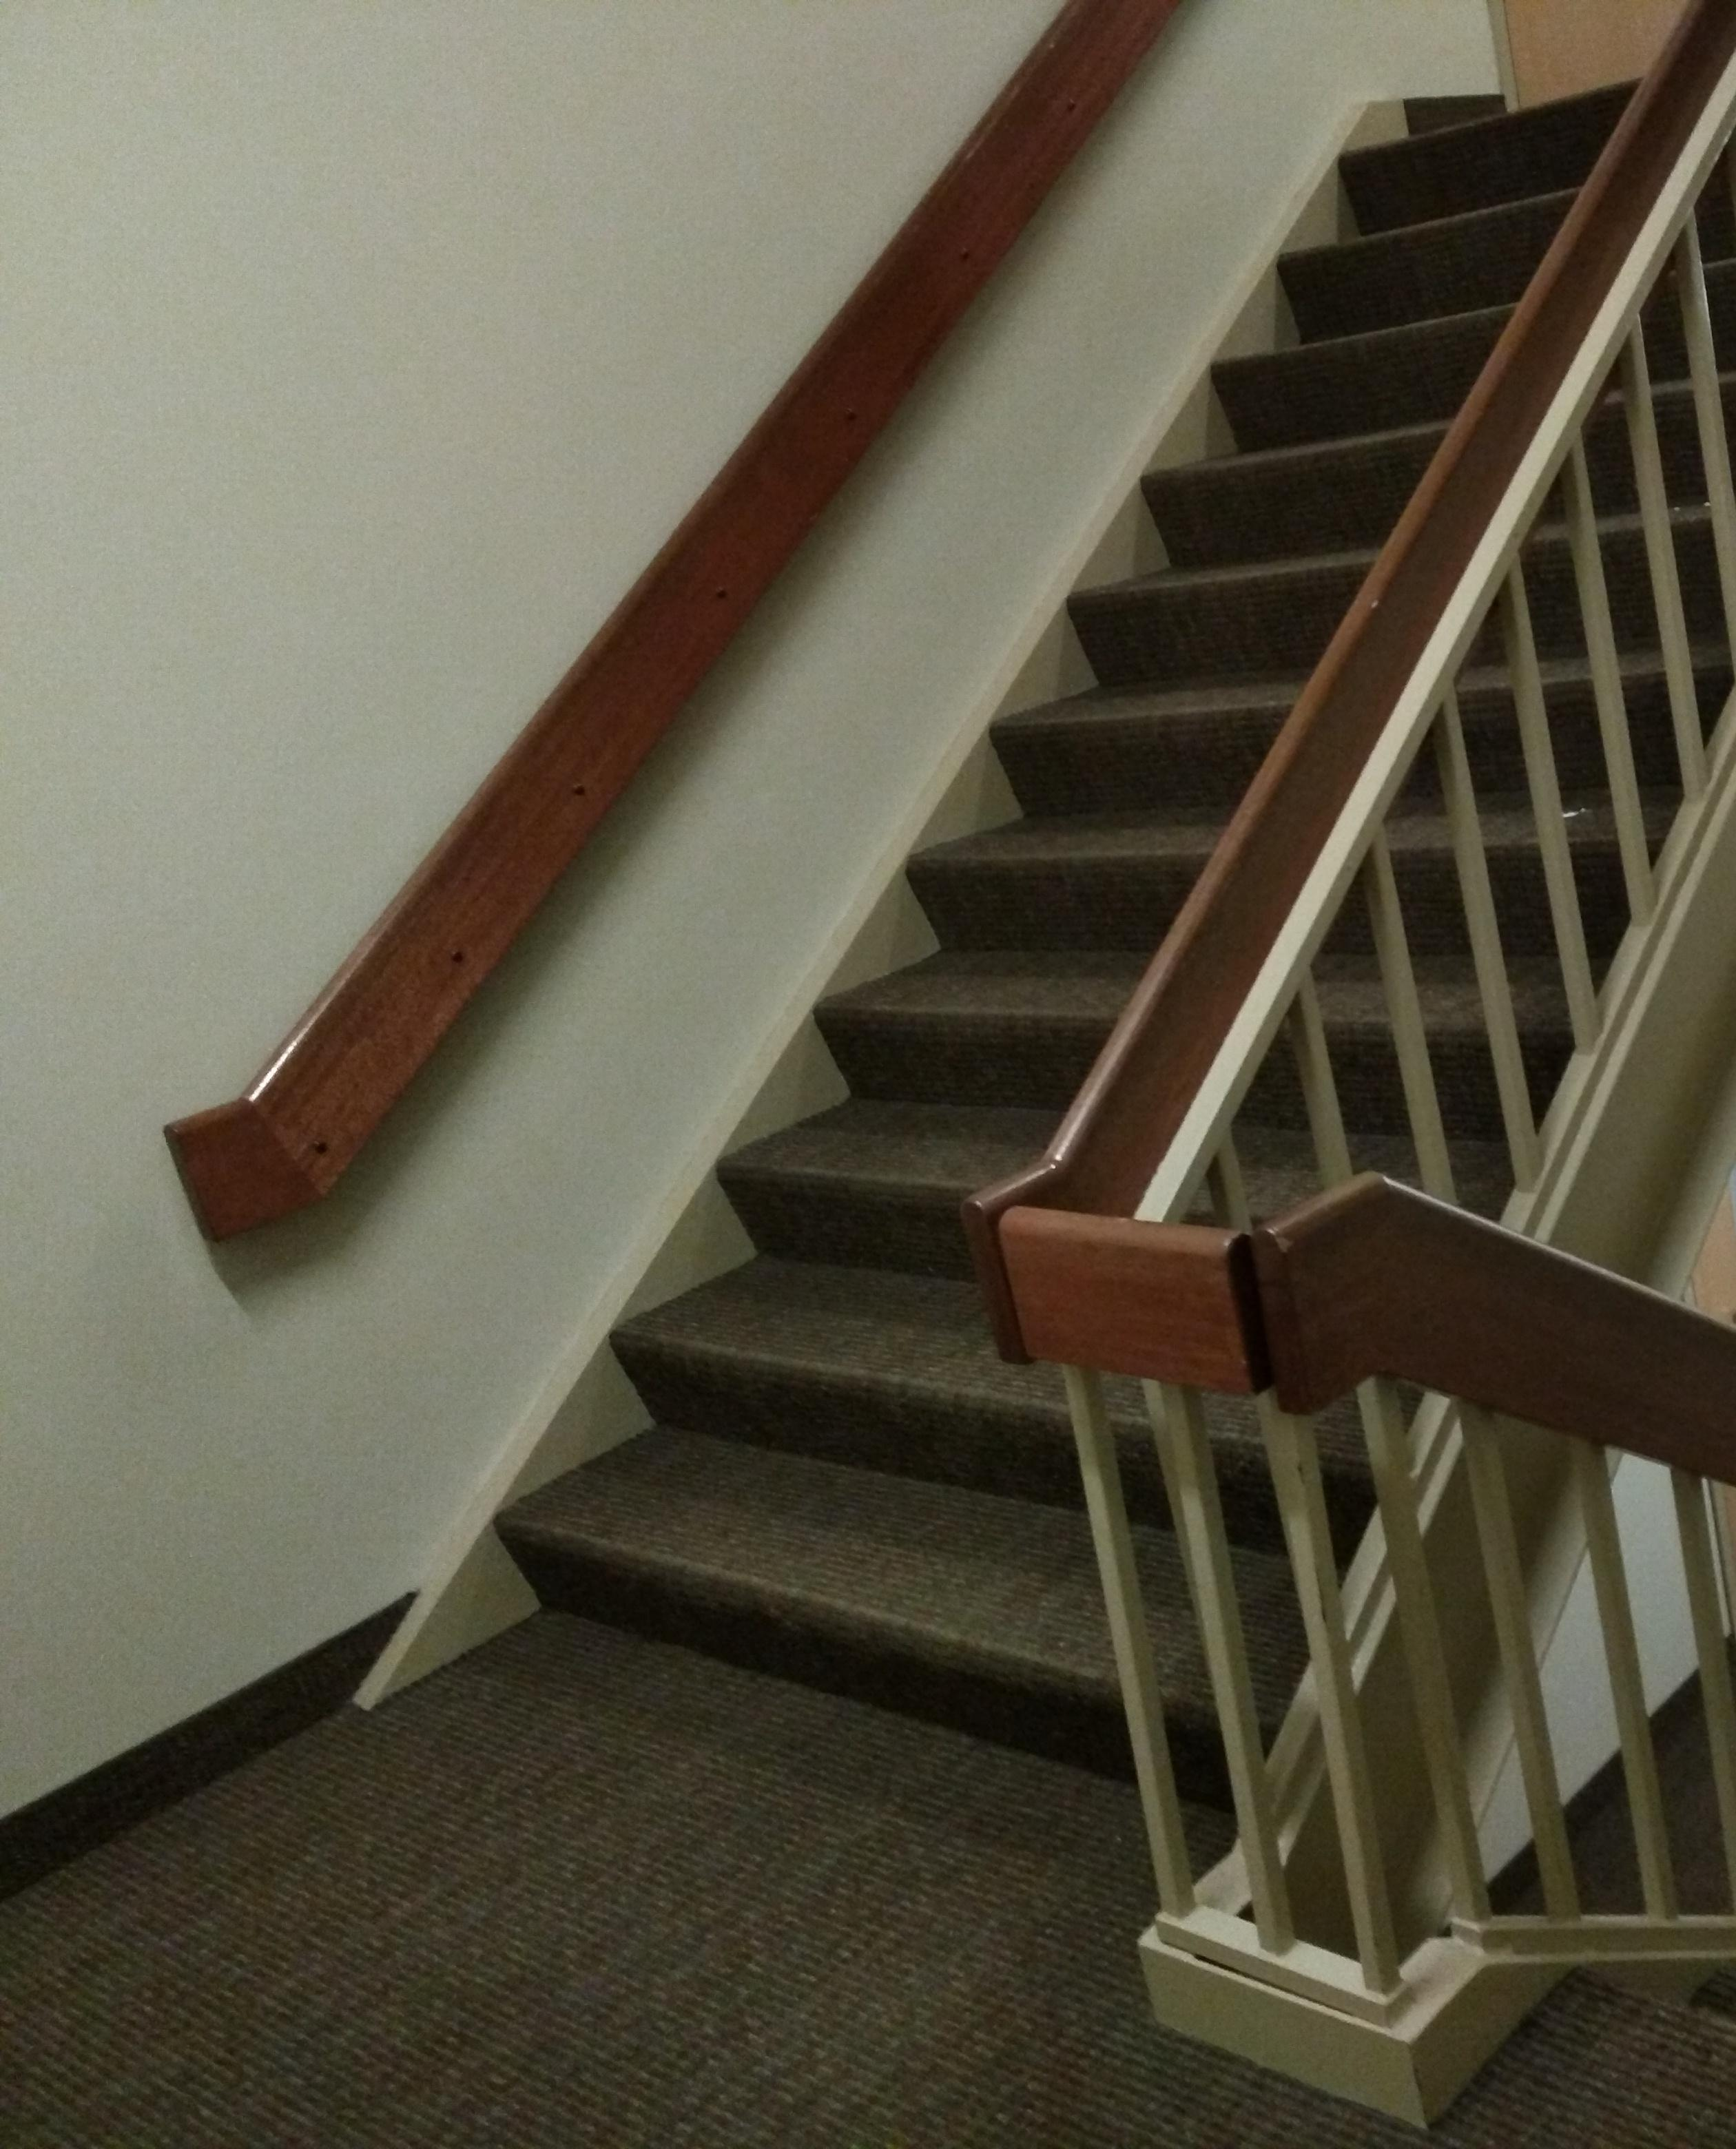stairs_up: (368, 71, 1736, 1807)
